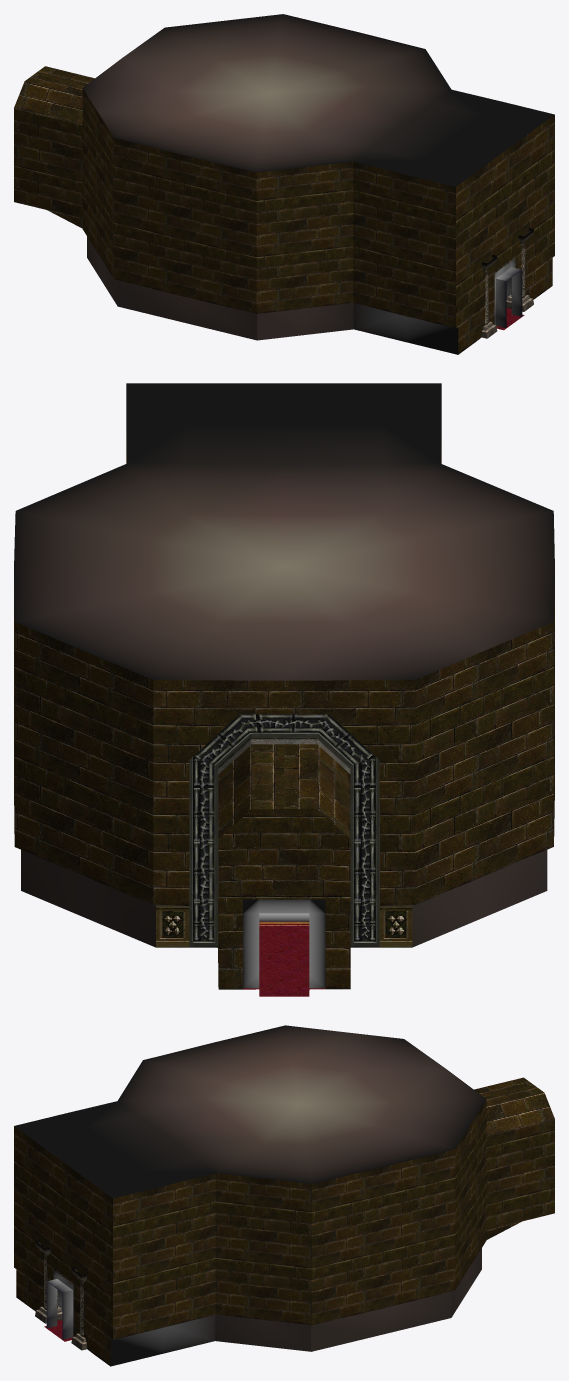
3 views of the same model, one above another, from view 1: azimuth 30°, elevation 25°; view 2: azimuth 150°, elevation 25°; view 3: azimuth 270°, elevation 25° (orthographic). The views are drawn at different scales.
Visible parts, largest first — view 1: node-0020C3EA, node-00E73236, node-0244717E, node-02079AD5, node-025DFD3F; view 2: node-00E73236, node-0020C3EA, node-03A7E922, node-0244717E, node-02079AD5, node-0126E33F, node-014DE739, node-0067FD75; view 3: node-0020C3EA, node-00E73236, node-0244717E, node-02079AD5, node-025DFD3F.
Boxes of the visible parts, bbox=[...] form: node-0020C3EA: bbox=[14, 66, 554, 354]; node-00E73236: bbox=[83, 14, 554, 186]; node-0244717E: bbox=[87, 236, 458, 354]; node-02079AD5: bbox=[492, 258, 522, 328]; node-025DFD3F: bbox=[481, 228, 534, 338]; node-00E73236: bbox=[14, 383, 554, 680]; node-0020C3EA: bbox=[14, 432, 554, 989]; node-03A7E922: bbox=[189, 714, 379, 946]; node-0244717E: bbox=[21, 850, 547, 947]; node-02079AD5: bbox=[243, 899, 325, 988]; node-0126E33F: bbox=[243, 921, 325, 996]; node-014DE739: bbox=[156, 905, 412, 947]; node-0067FD75: bbox=[218, 736, 379, 904]; node-0020C3EA: bbox=[14, 1077, 554, 1366]; node-00E73236: bbox=[14, 1025, 486, 1198]; node-0244717E: bbox=[110, 1248, 481, 1366]; node-02079AD5: bbox=[46, 1270, 76, 1339]; node-025DFD3F: bbox=[35, 1239, 86, 1350].
Bounding box in the file's own units: 787 × 360 × 1040.
